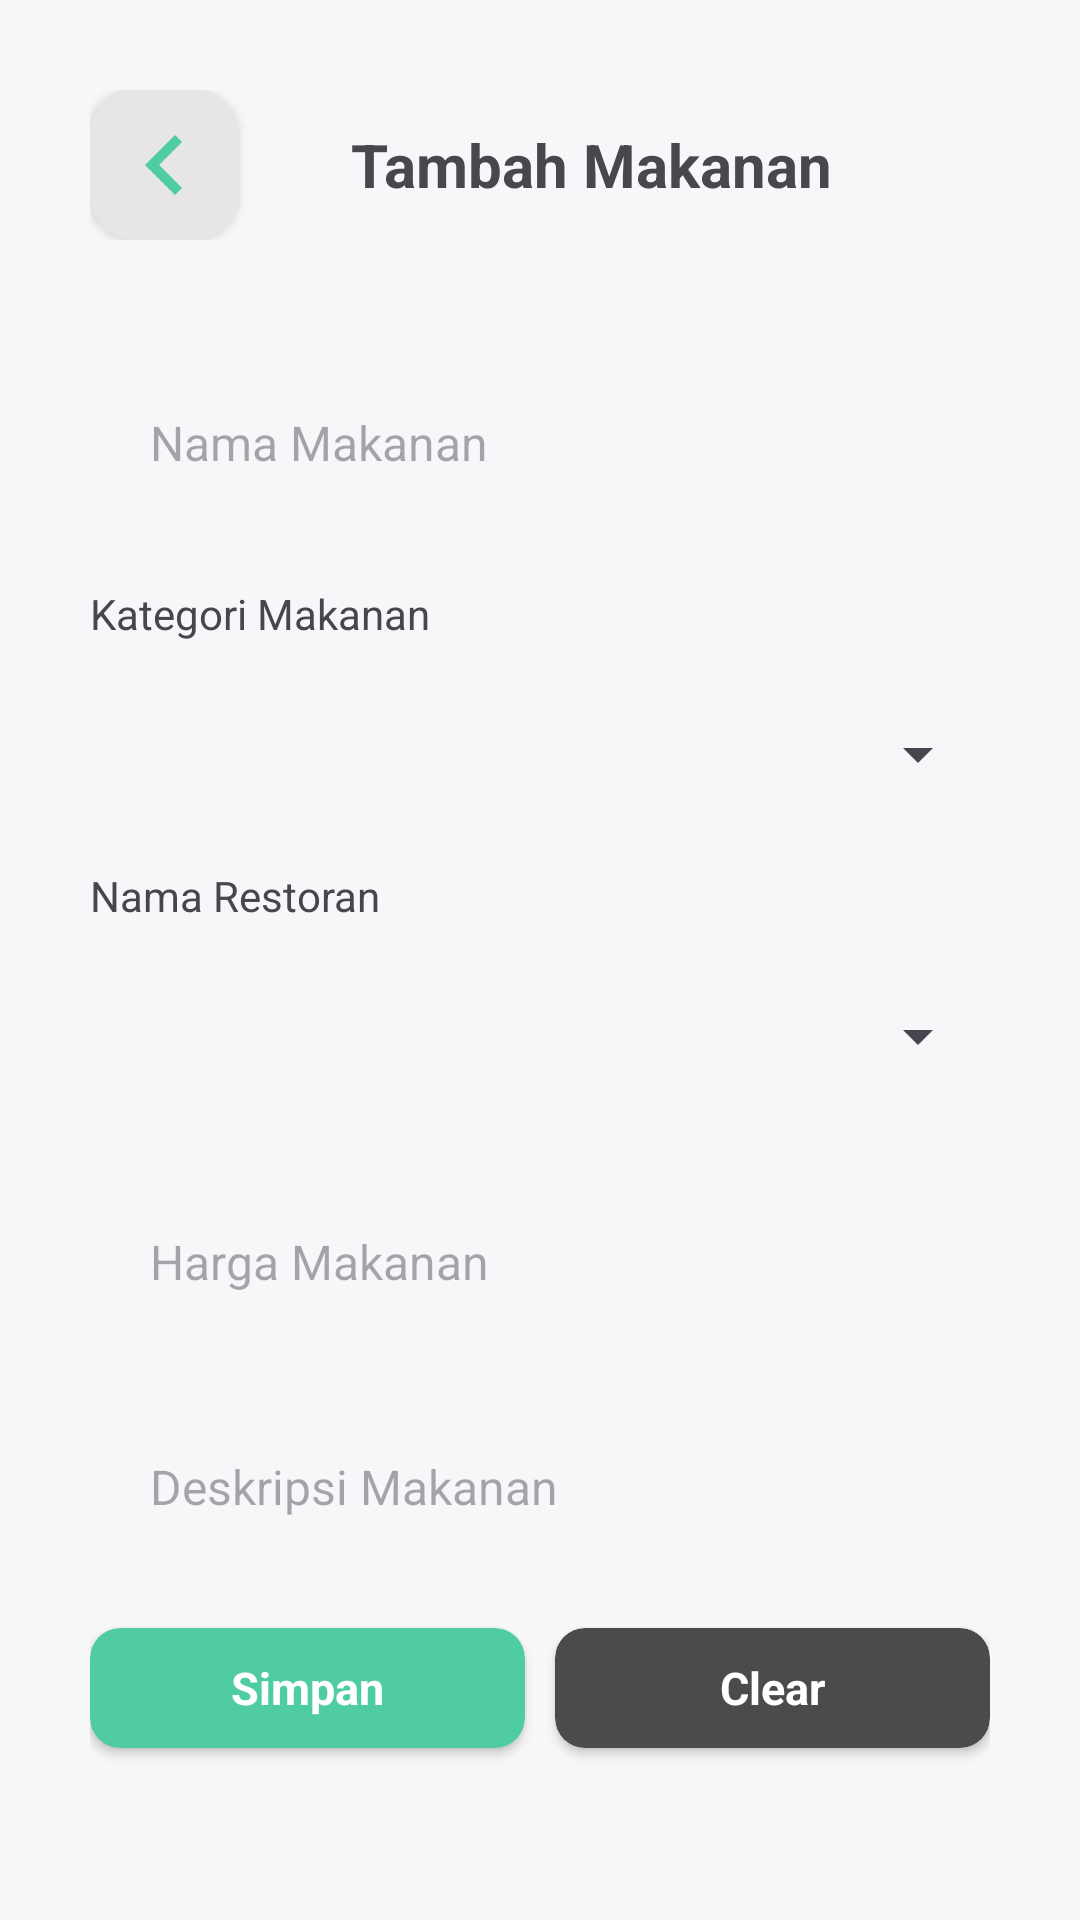

Locate icon controls on the screen. Image size 1080px×1920px, boxes as {"x1": x1, "y1": y1, "x2": x2, "y2": y2}.
chevron left: {"x1": 145, "y1": 135, "x2": 182, "y2": 195}
